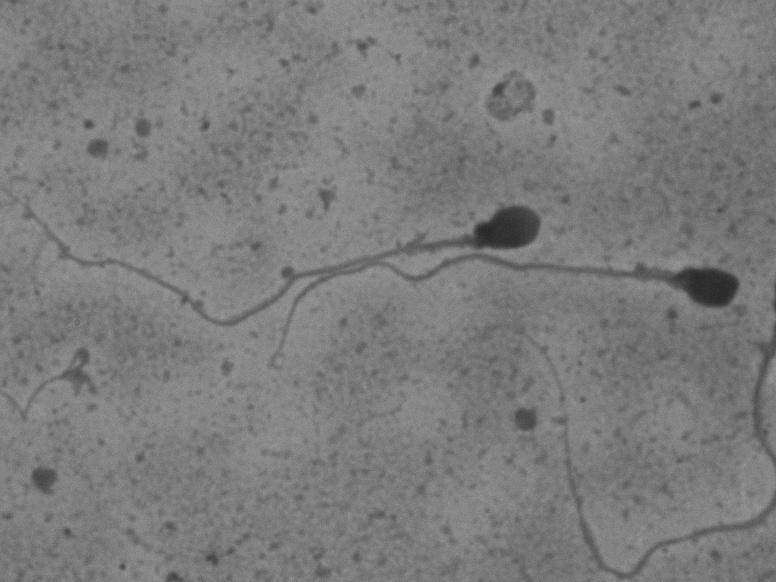Abnormal: (37, 164, 553, 321), (258, 247, 748, 386)
